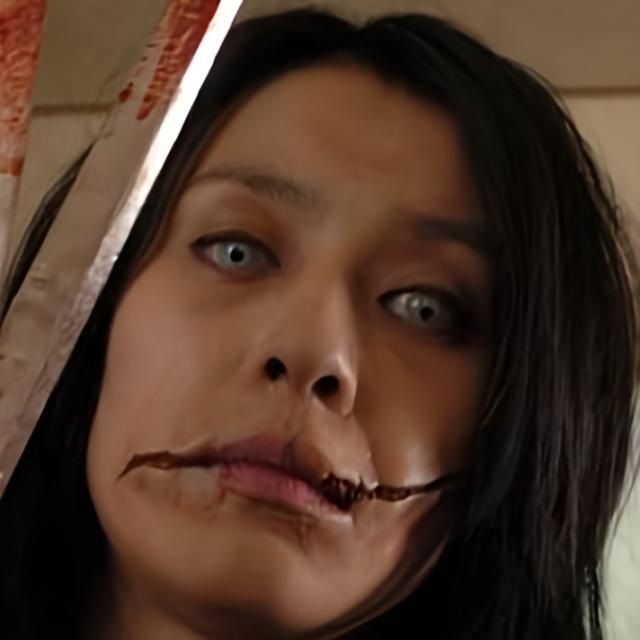fear: (83, 49, 508, 640)
